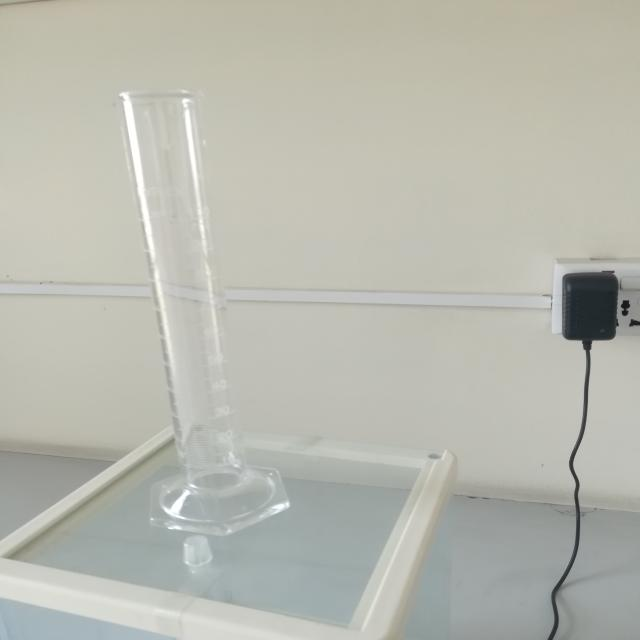Measuring_Cylinder: (82, 54, 335, 573)
